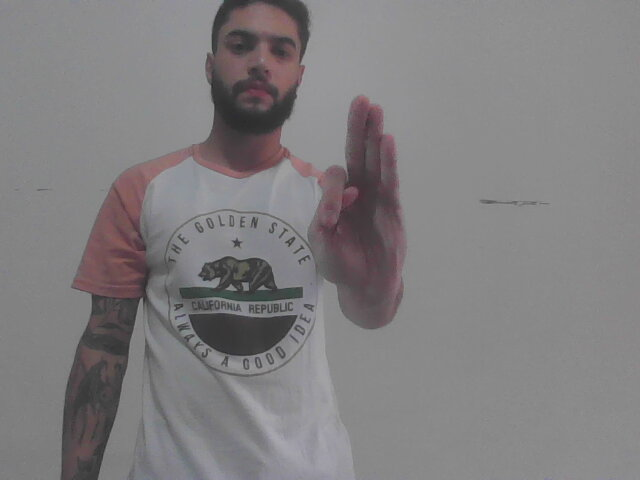t: (303, 90, 413, 294)
